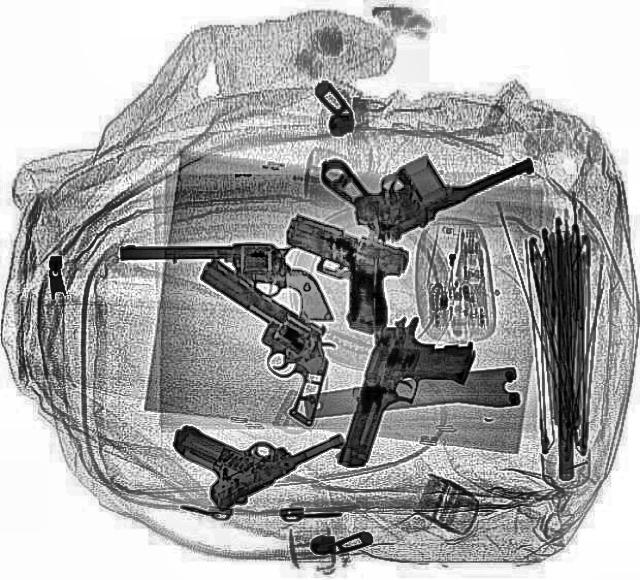Gun: (149, 250, 375, 426), (311, 86, 537, 250), (160, 369, 352, 515), (333, 308, 482, 485), (250, 212, 420, 336), (118, 241, 336, 322)
